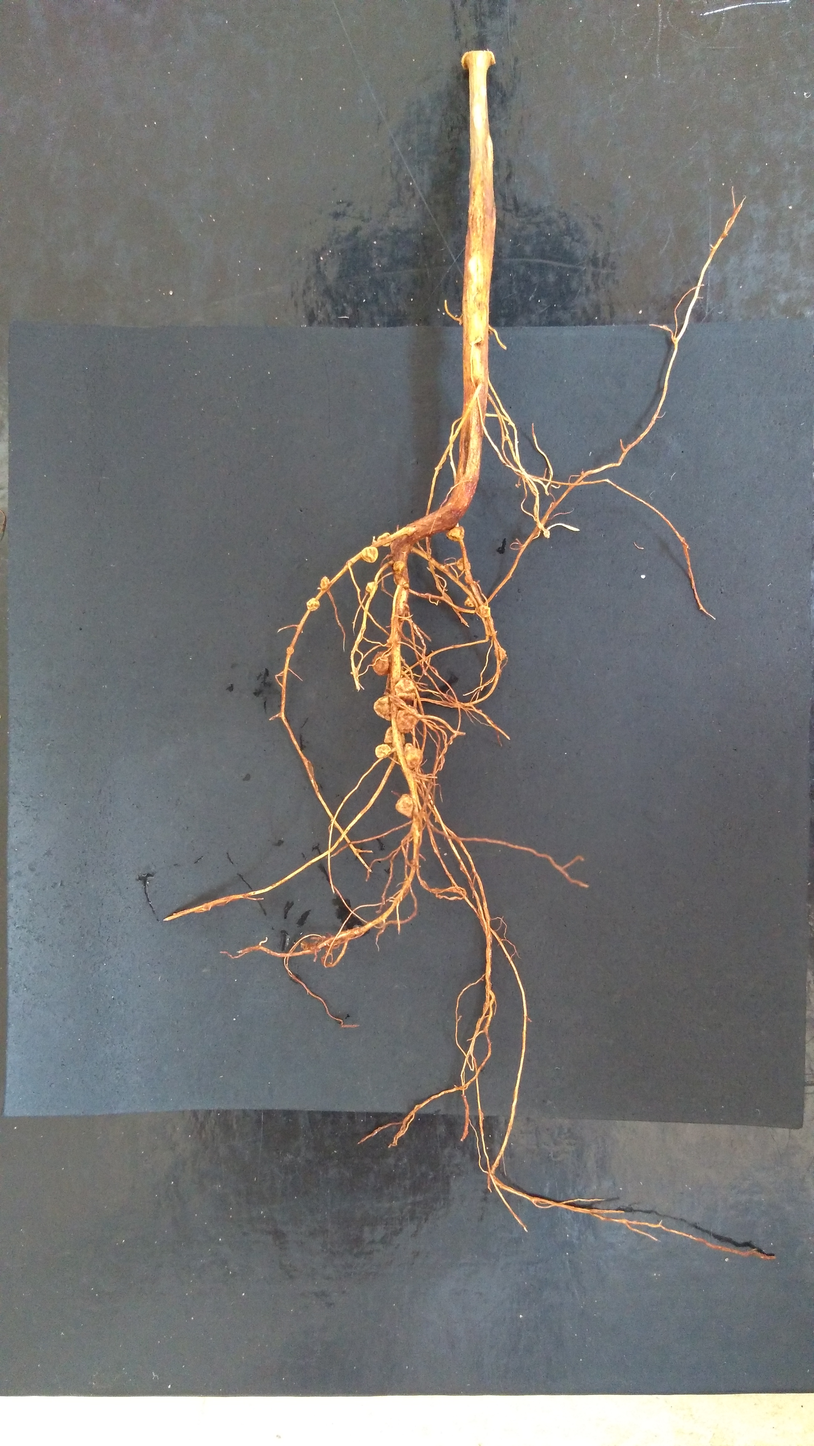nodule: (395, 704, 422, 736), (393, 675, 416, 706), (371, 693, 393, 723), (403, 741, 424, 770), (394, 792, 414, 820), (382, 725, 406, 747), (370, 650, 390, 676), (372, 742, 392, 760), (445, 525, 466, 542), (360, 546, 379, 563), (376, 531, 392, 548), (456, 556, 472, 572), (306, 596, 320, 612), (478, 603, 492, 619), (364, 580, 379, 593), (319, 575, 331, 591), (463, 594, 475, 609), (392, 560, 405, 572)
